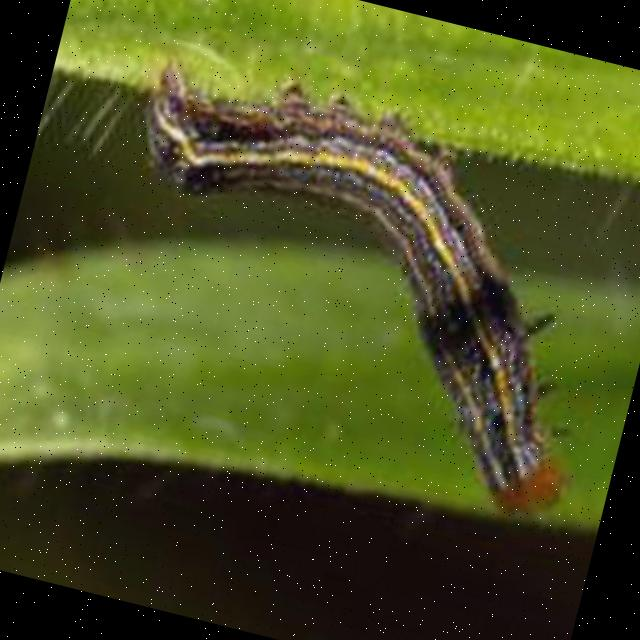worm: (70, 43, 640, 528)
